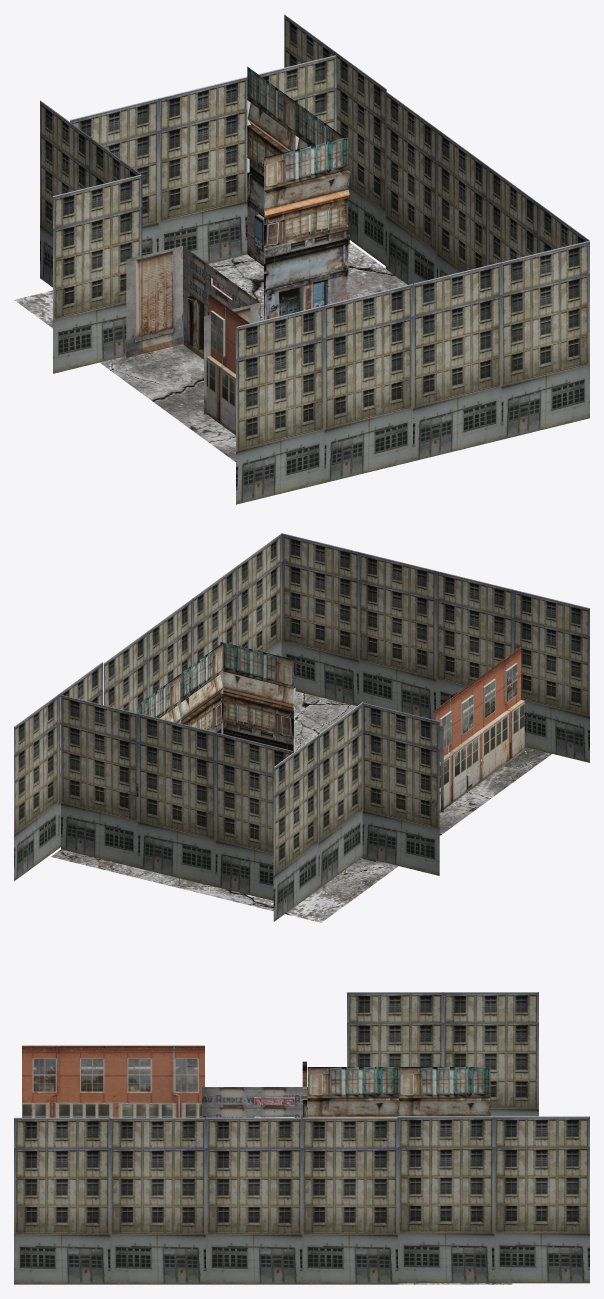
Rendered from low-city.glb.
The picture shows the model from 3 angles, top to bottom: view 1: azimuth 30°, elevation 25°; view 2: azimuth 150°, elevation 25°; view 3: azimuth 270°, elevation 25°; orthographic projection. The views are drawn at different scales.
Parts seen in each view (by area): view 1: paint.main-wall, paint.side2-wall.002, paint.back-wall, object 50, paint.front-wall, Plane, object 51, Plane.001, paint.backside-wall, Plane.002_1_0.001, object 48, object 42 (+2 smaller); view 2: paint.main-wall, paint.back-wall, object 51, paint.side2-wall.002, object 50, Plane, object 42, paint.backside-wall, object 48, object 47, Plane.003_1_0.002, paint.side-wall (+1 smaller); view 3: paint.side2-wall.002, paint.backside-wall, paint.hidden-wall, paint.left-wall, paint.side-wall, Plane.003_1_0.001, paint.middle-wall, paint.window1-wall, paint.window3-wall, paint.window2-wall.
Boxes of the visible parts, <box> form: paint.main-wall: <box>236,240,589,504</box>; paint.side2-wall.002: <box>385,91,589,284</box>; paint.back-wall: <box>70,76,247,263</box>; object 50: <box>53,175,141,373</box>; paint.front-wall: <box>264,137,350,319</box>; Plane: <box>14,243,407,461</box>; object 51: <box>159,55,336,263</box>; Plane.001: <box>126,246,260,414</box>; paint.backside-wall: <box>284,14,386,265</box>; Plane.002_1_0.001: <box>247,67,295,266</box>; object 48: <box>40,101,90,287</box>; object 42: <box>206,294,248,435</box>; paint.main-wall: <box>281,533,589,762</box>; paint.back-wall: <box>138,713,292,900</box>; object 51: <box>61,694,215,886</box>; paint.side2-wall.002: <box>103,533,281,713</box>; object 50: <box>362,702,439,875</box>; Plane: <box>51,691,551,922</box>; object 42: <box>436,647,524,812</box>; paint.backside-wall: <box>14,662,102,880</box>; object 48: <box>274,735,318,921</box>; object 47: <box>318,702,362,888</box>; Plane.003_1_0.002: <box>220,642,295,752</box>; paint.side-wall: <box>136,643,223,796</box>; paint.side2-wall.002: <box>14,1117,397,1284</box>; paint.backside-wall: <box>398,1116,589,1283</box>; paint.hidden-wall: <box>347,992,538,1116</box>; paint.left-wall: <box>22,1046,204,1117</box>; paint.side-wall: <box>308,1067,490,1116</box>; Plane.003_1_0.001: <box>307,1067,399,1117</box>; paint.middle-wall: <box>202,1087,307,1117</box>; paint.window1-wall: <box>127,1059,151,1092</box>; paint.window3-wall: <box>80,1059,104,1092</box>; paint.window2-wall: <box>175,1059,198,1092</box>.
Size of what is drawn, in the model's own units: 19.71 by 9.9 by 29.08.
3 materials, 3 textured.
